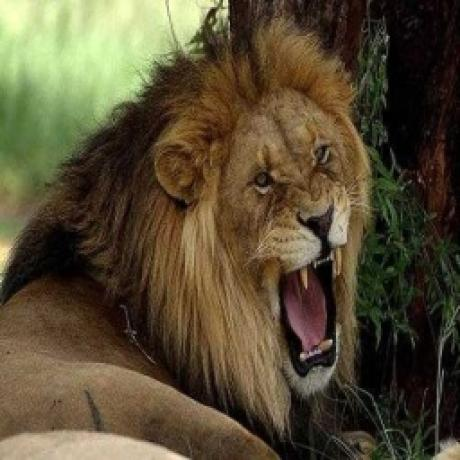Lion: (0, 14, 374, 460)
